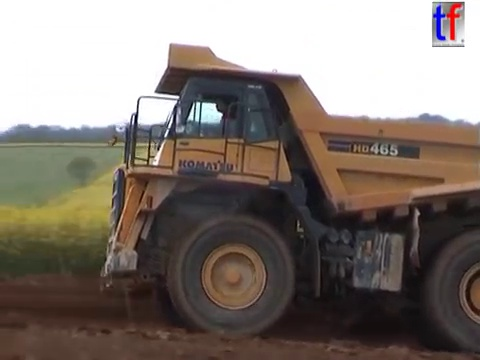truck: (96, 40, 480, 357)
